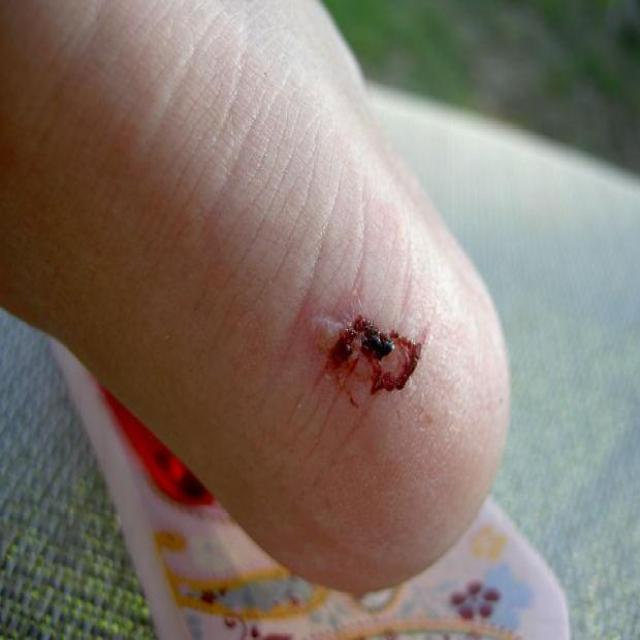flood: (318, 291, 437, 422)
